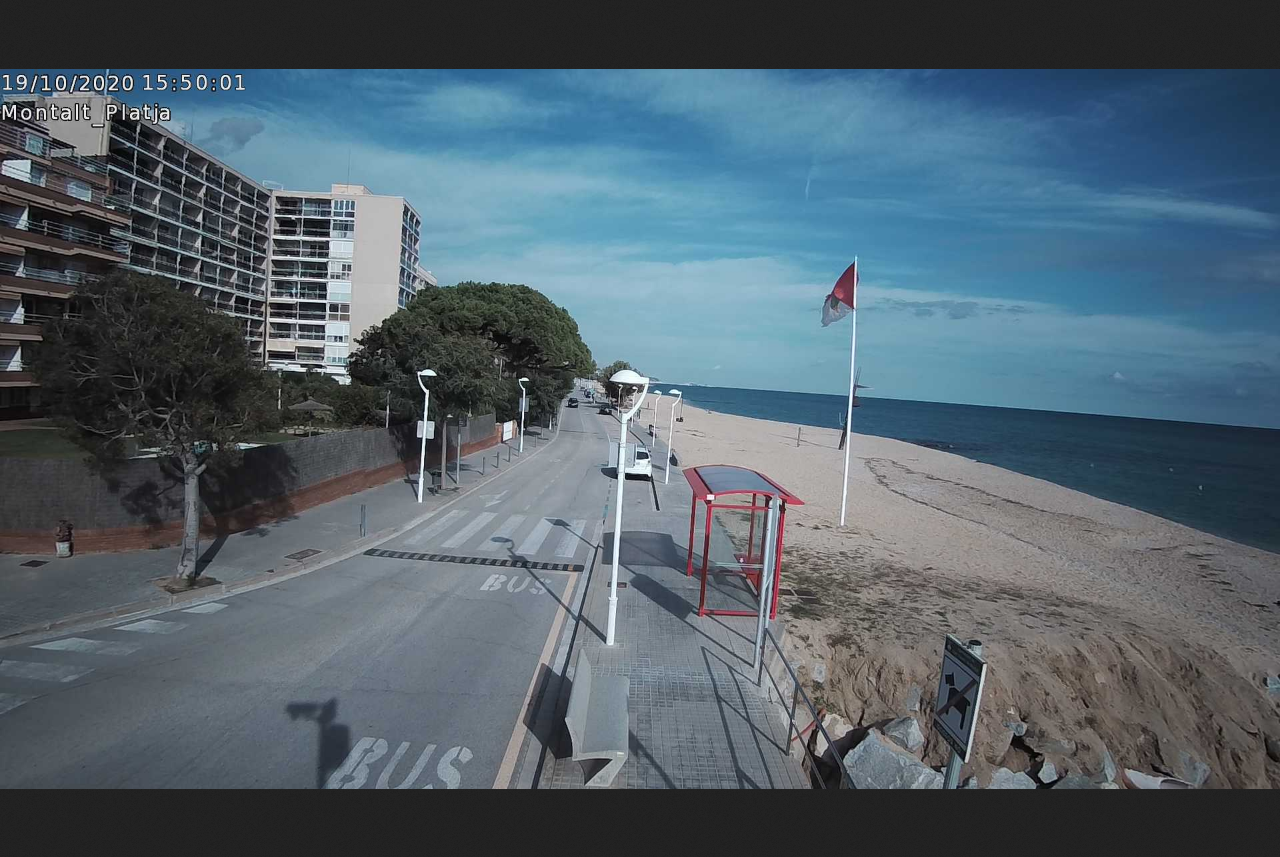maybe: (818, 258, 859, 330)
